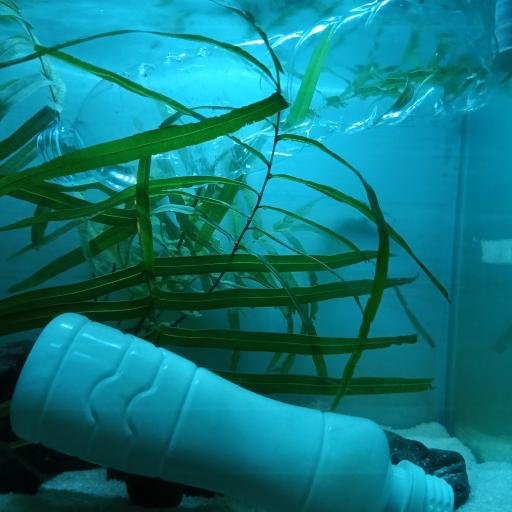plastic_bottle: (34, 1, 503, 196), (9, 311, 456, 512)
